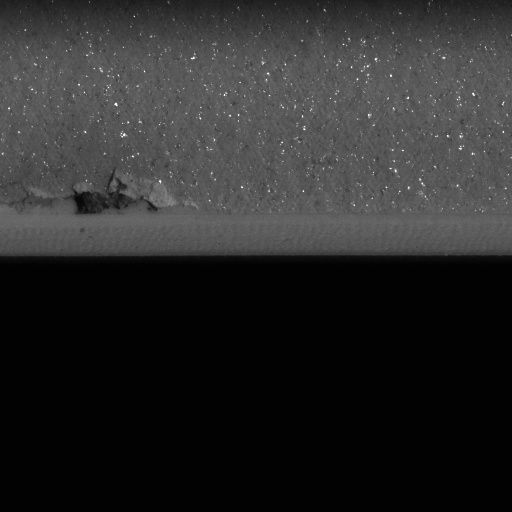bengque: (63, 173, 160, 215)
